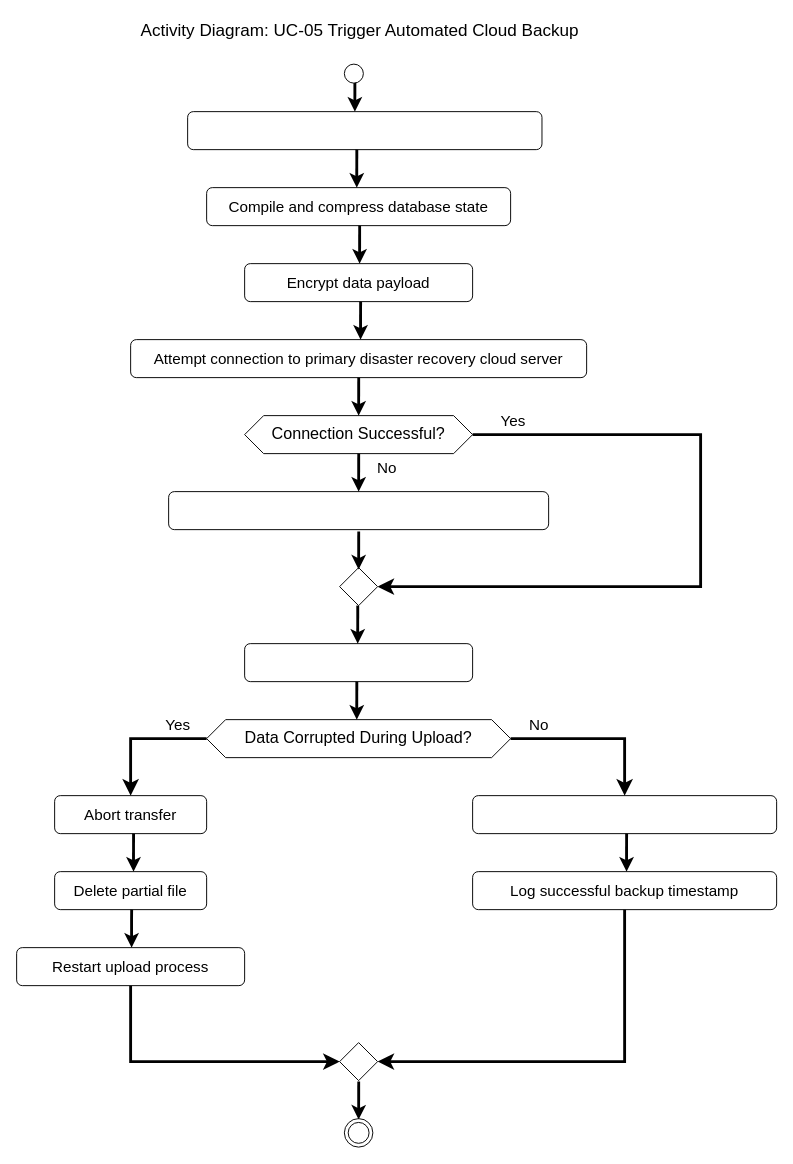
Image size: 793x1164. Some labels were removed from this diagram. Each missing label, with the centre of its shape:
"Confirm successful receipt and integrity" goes at (x=624, y=814).
"Connect to secondary failover cloud region" goes at (x=358, y=510).
"Initiate automated backup at scheduled time" goes at (x=364, y=130).
"Upload encrypted payload" goes at (x=358, y=662).
